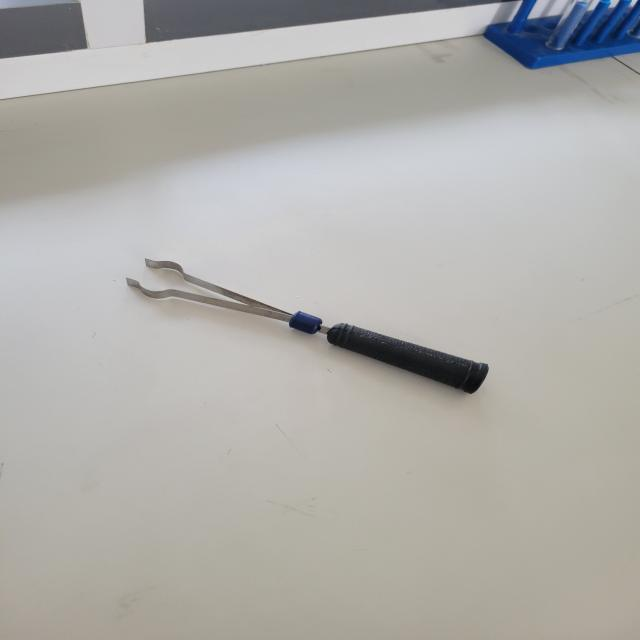TestTube_Holder: (87, 224, 509, 438)
